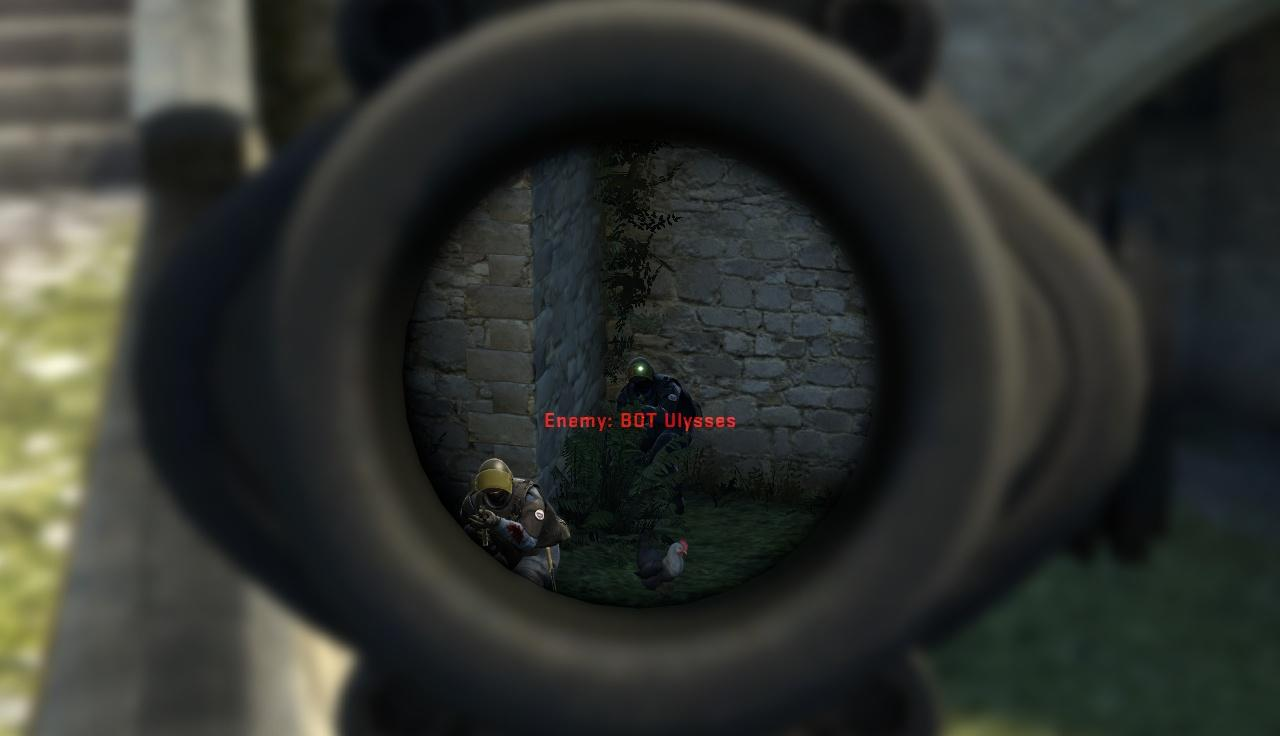ct: (461, 457, 554, 594), (619, 357, 689, 510)
cthead: (476, 458, 512, 501), (628, 358, 654, 391)
